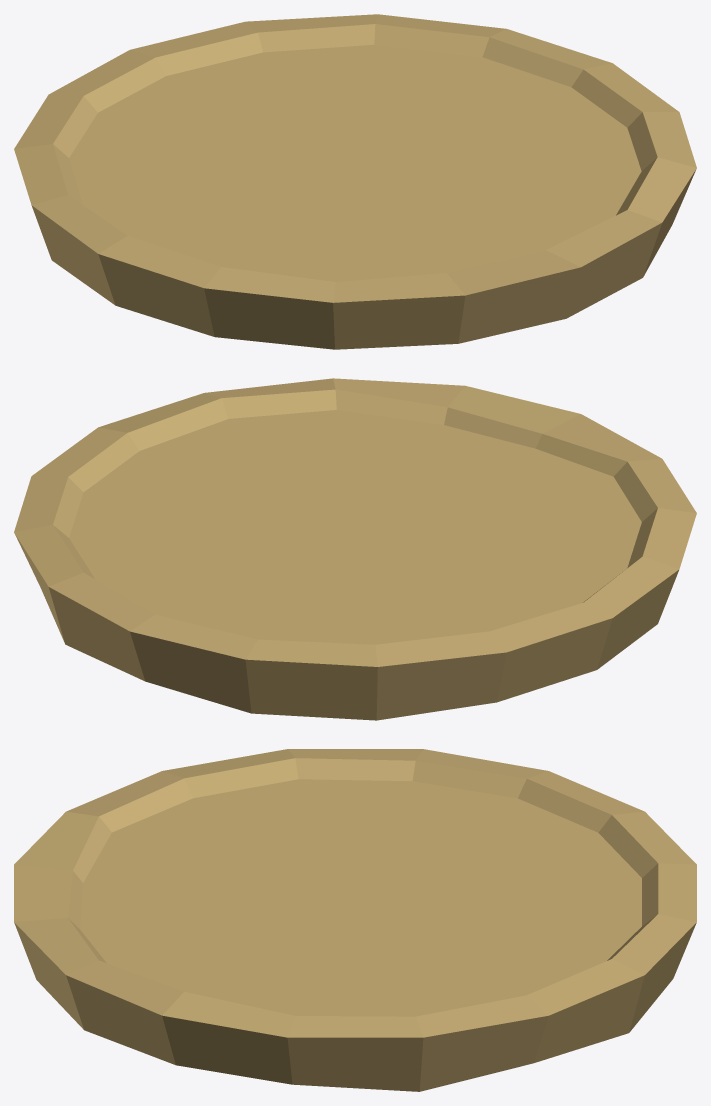
Rendered from Pitsa_Collider.fbx.
3 renders of one model, top to bottom at view 1: azimuth 30°, elevation 25°; view 2: azimuth 150°, elevation 25°; view 3: azimuth 270°, elevation 25°, orthographic.
Visible parts, largest first — view 1: Pitsa-Collider; view 2: Pitsa-Collider; view 3: Pitsa-Collider.
Boxes of the visible parts, x1,y1,x2,y2 form: Pitsa-Collider: (14, 14, 696, 349); Pitsa-Collider: (14, 378, 696, 720); Pitsa-Collider: (14, 749, 696, 1091).
Size of the model in its own units: 193 by 22.6 by 193.
